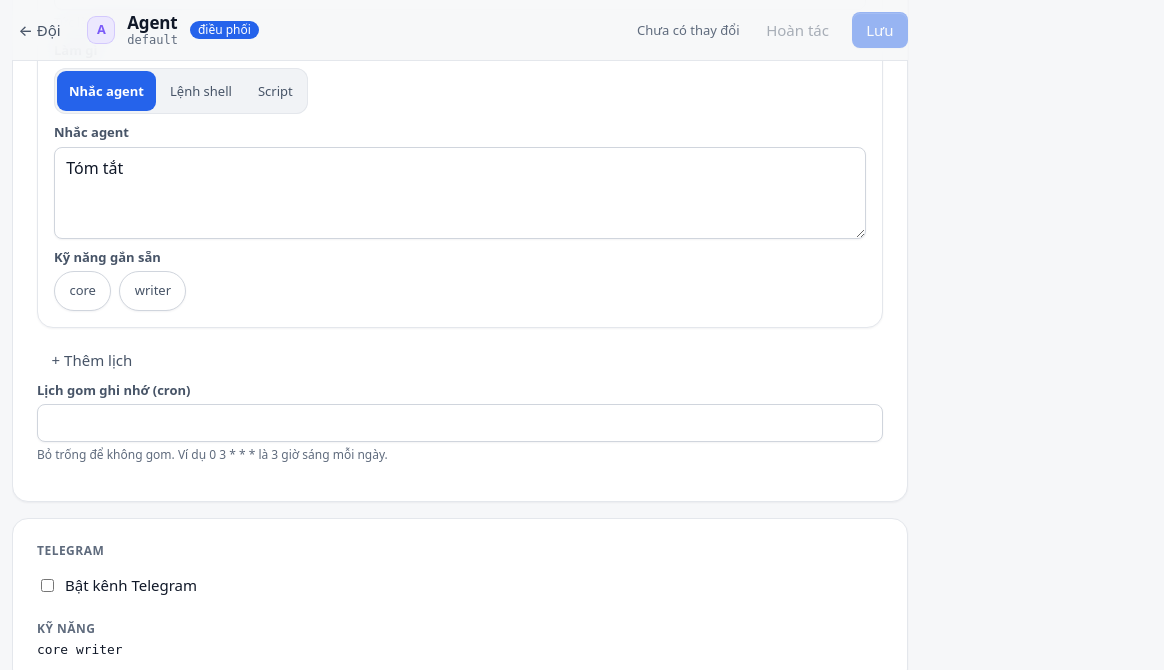
Test: a schedule of another kind and its id › lets a command go without one, numbered by the server as before
The width and height of the screenshot is (1164, 670).
(page scrolled)
Step 1. Click the button "+ Thêm lịch" → [92, 360], box [37,340,147,380]
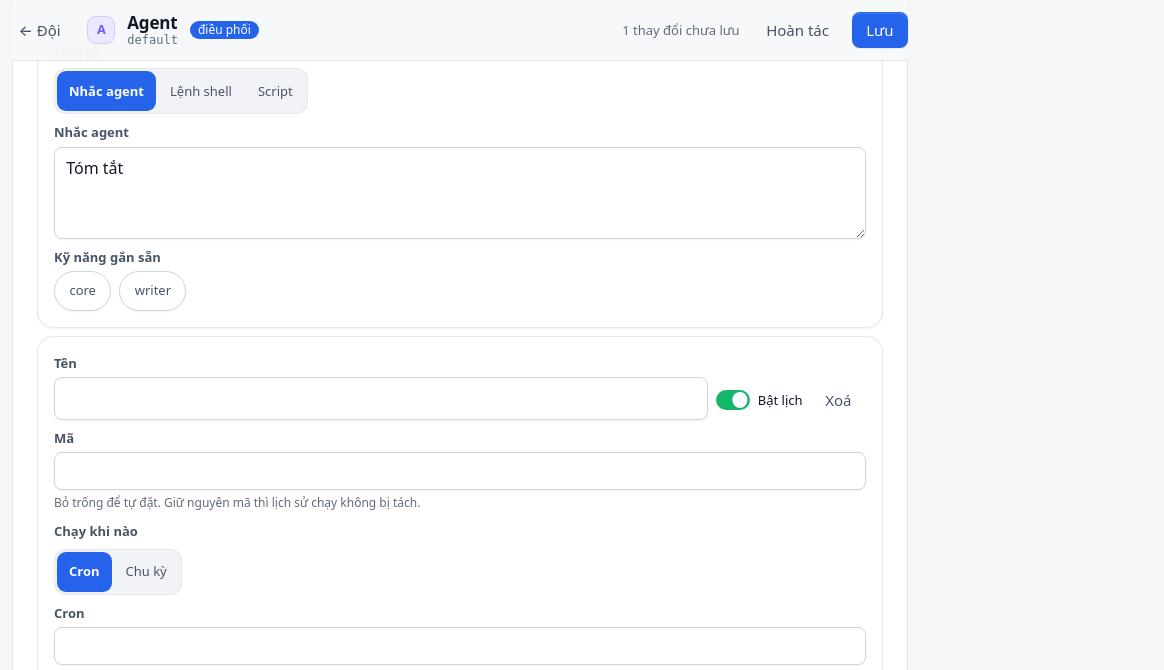
Step 2. Type "Việc mới" into the field labelled "Tên" → [381, 399], box [54,377,708,420]
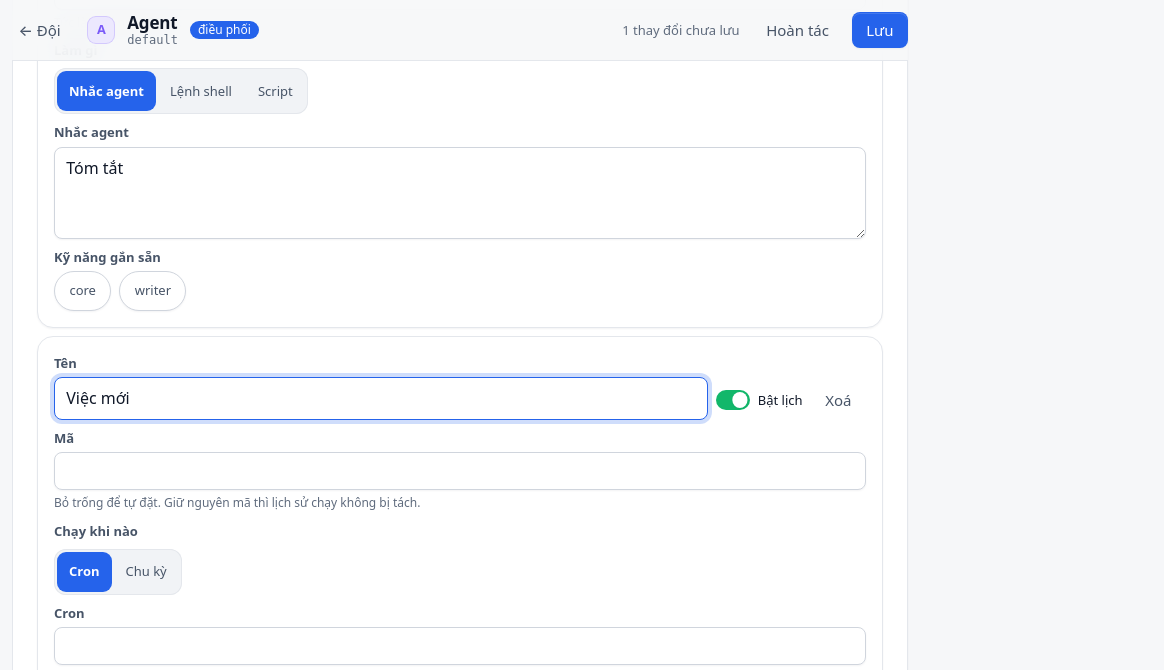
Step 3. Type "40 6 * * *" into the field labelled "Cron" → [460, 646], box [54,627,866,665]
(page scrolled)
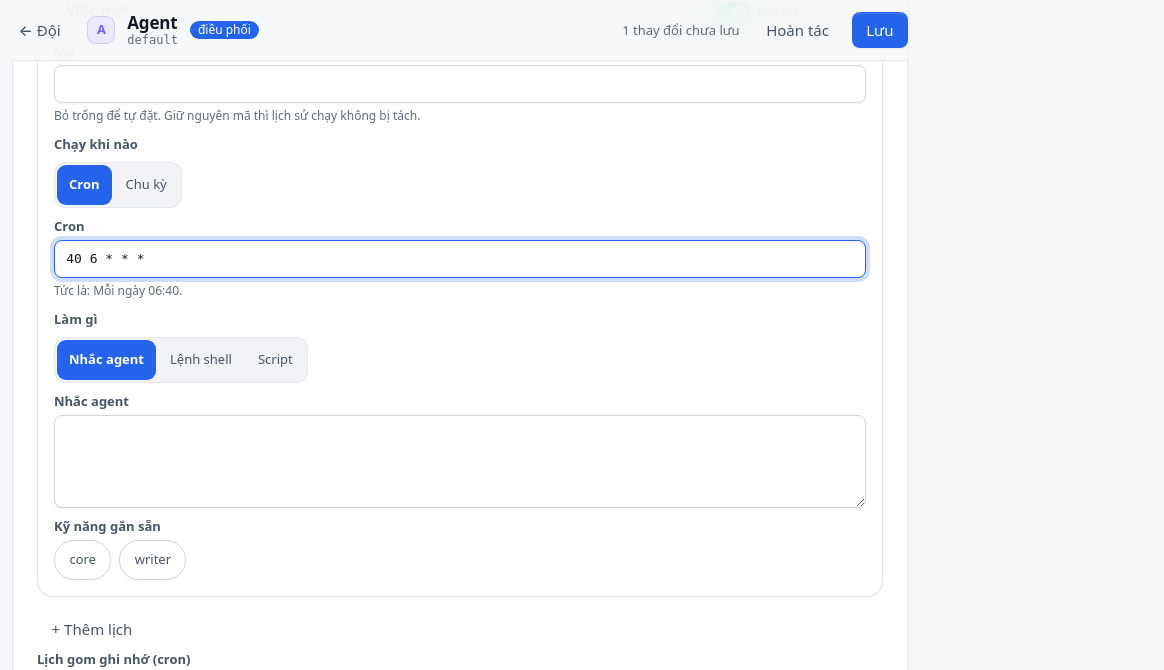
Step 4. Click the button "Lệnh shell" → [201, 360], box [158,340,244,380]
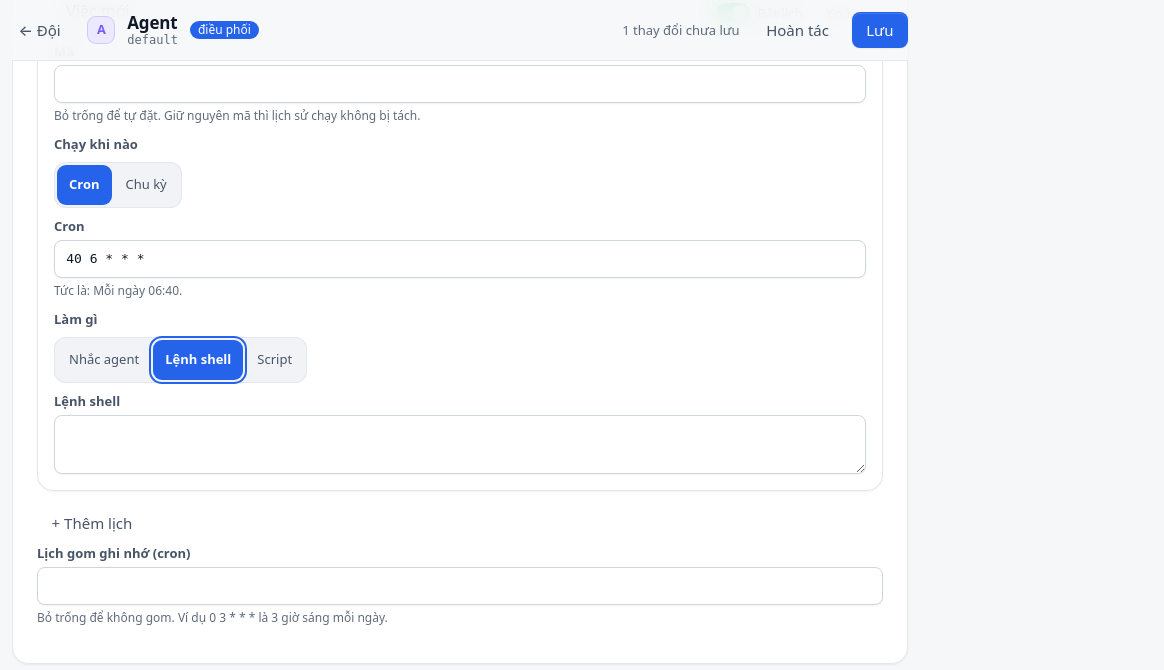
Step 5. Type "make backup" into the text box labelled "Lệnh shell" → [460, 444], box [54,415,866,474]
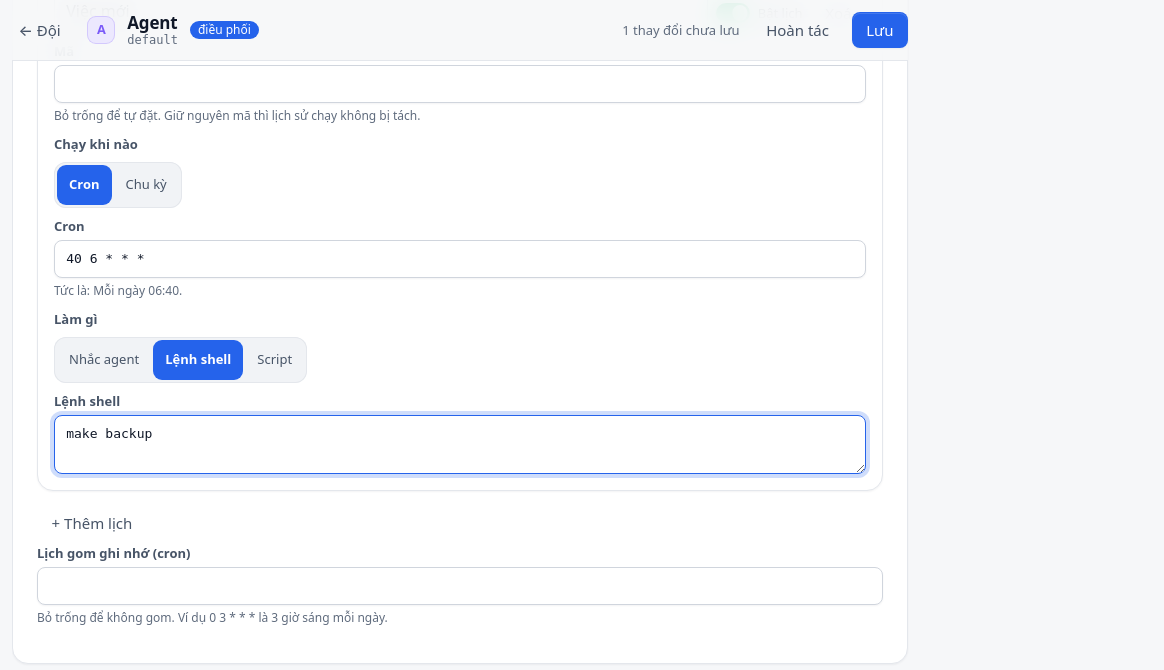
Step 6. Click the button "Lưu" → [880, 30], box [852,12,908,48]
(page scrolled)
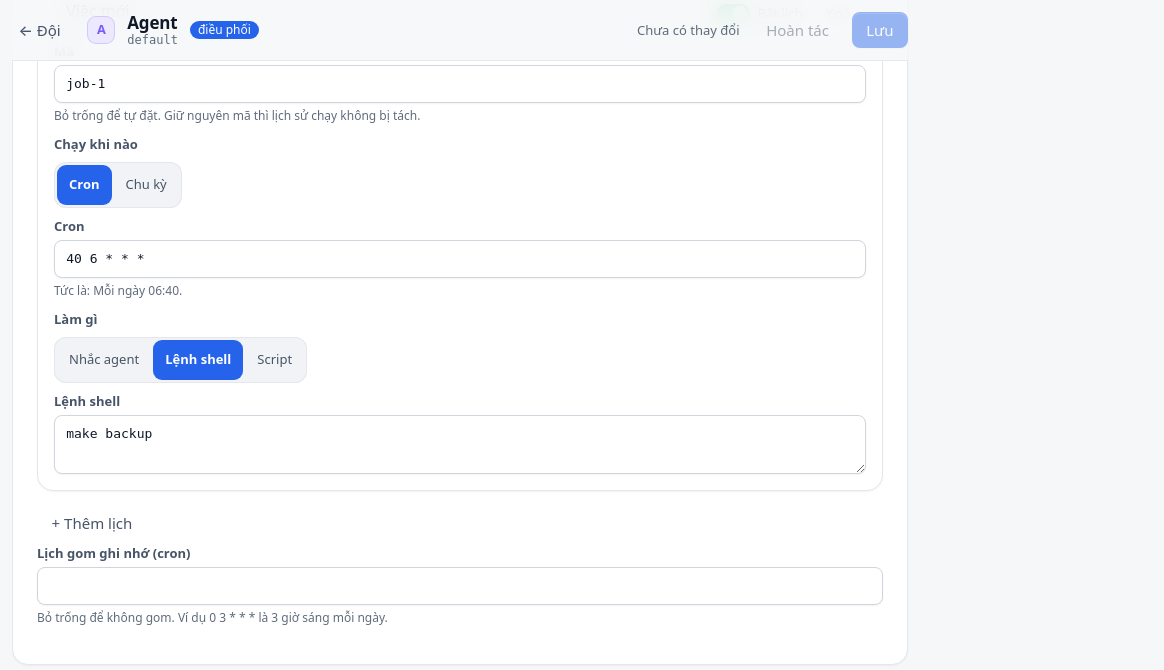
Check: the button "Lưu" is disabled, box [852,12,908,48]
